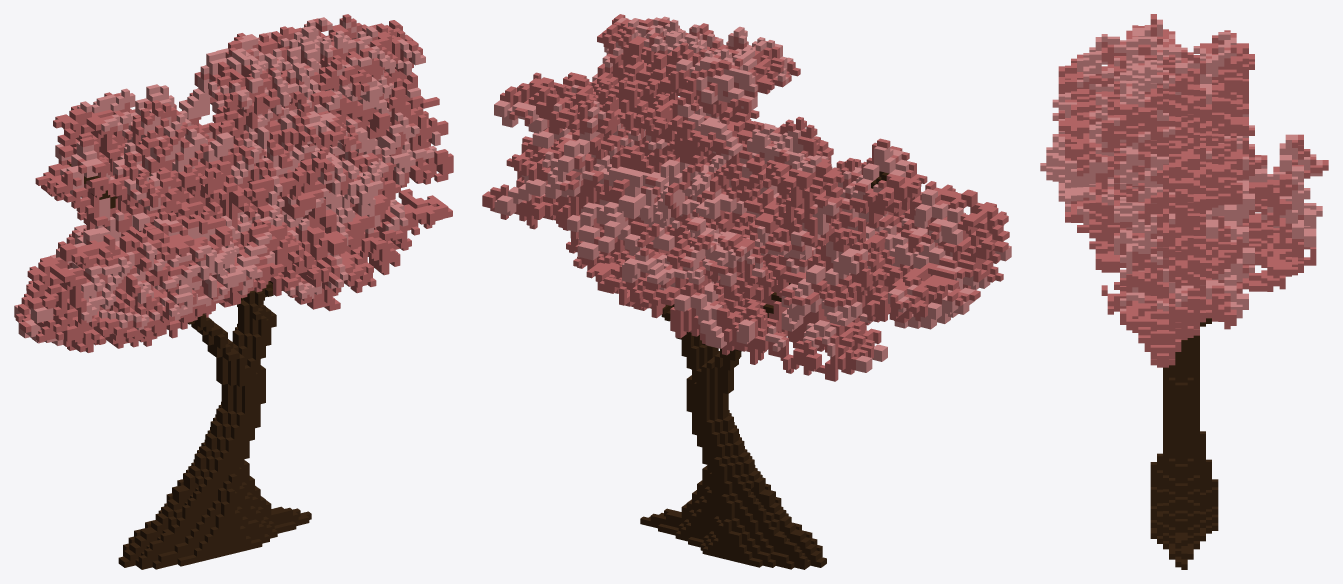
File: Korean_tree_04.FBX
The picture shows the model from 3 angles, left to right: view 1: azimuth 30°, elevation 25°; view 2: azimuth 150°, elevation 25°; view 3: azimuth 270°, elevation 25°; orthographic projection. The views are drawn at different scales.
Visible parts, largest first — view 1: Voxel_Korean_traditional village-14; view 2: Voxel_Korean_traditional village-14; view 3: Voxel_Korean_traditional village-14.
Part boxes in pixels (x1,y1,x2,y2): Voxel_Korean_traditional village-14: [14, 14, 453, 569]; Voxel_Korean_traditional village-14: [482, 14, 1011, 569]; Voxel_Korean_traditional village-14: [1040, 14, 1328, 569].
Bounding box in the file's own units: 86.98 × 89.98 × 46.99.
Materials: 1 (1 with a texture image).
